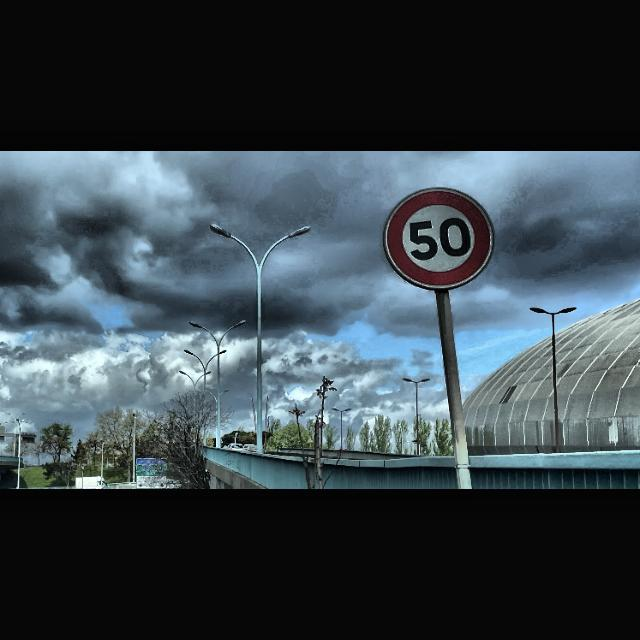speed_50: (383, 186, 495, 290)
